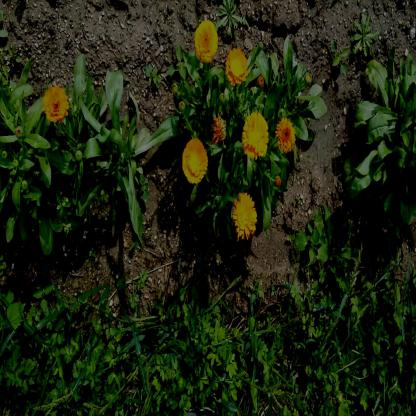marigold: (243, 110, 270, 157), (232, 192, 256, 238), (182, 138, 207, 182), (195, 20, 219, 63), (42, 85, 68, 122), (225, 48, 248, 81), (276, 116, 296, 150)
